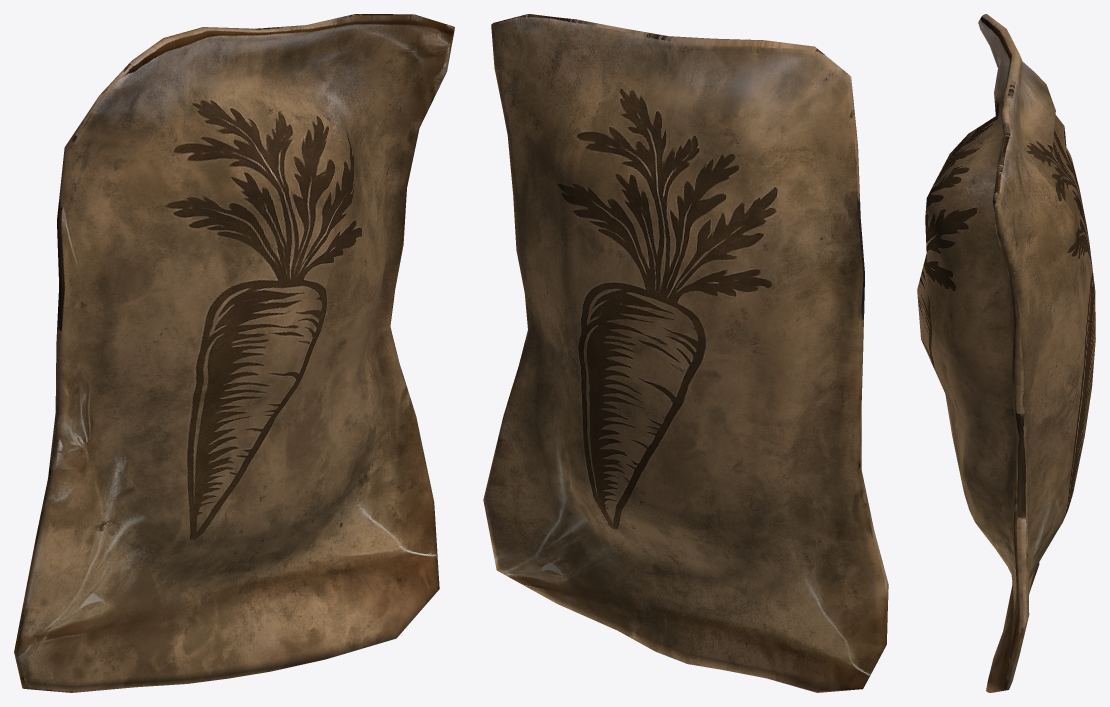
File: vegetable_packet.glb
3 views of the same model, side by side, from view 1: azimuth 30°, elevation 25°; view 2: azimuth 150°, elevation 25°; view 3: azimuth 270°, elevation 25° (orthographic). The views are drawn at different scales.
Visible parts, largest first — view 1: Plane002; view 2: Plane002; view 3: Plane002.
Part boxes in pixels (box(x1,y1,x2,y2)): Plane002: box(14, 14, 454, 692); Plane002: box(483, 14, 888, 692); Plane002: box(917, 14, 1095, 692).
Size of the model in its own units: 50.02 by 74.3 by 20.72.
Materials: 1 (1 with a texture image).
